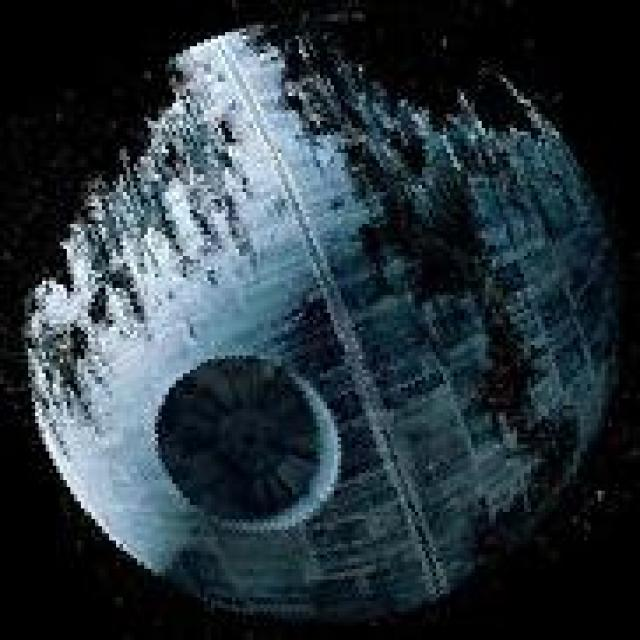Death Star: (14, 4, 626, 622)
